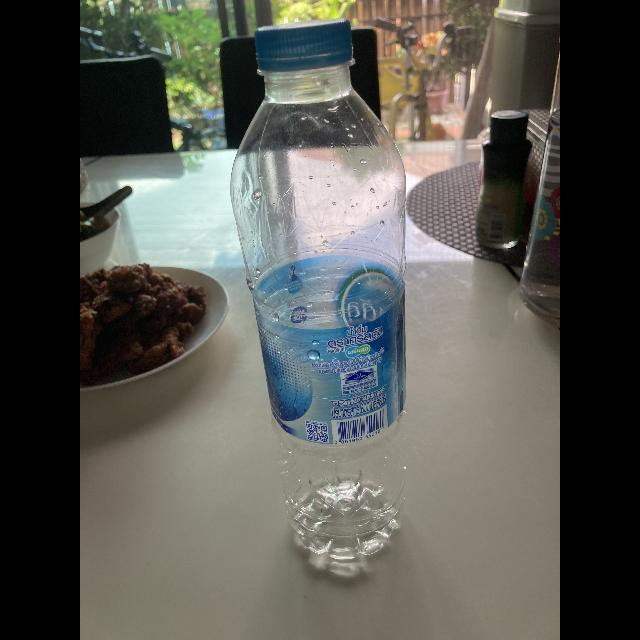plastic_bottle: (225, 17, 409, 581)
plastic_bottle_cap: (253, 21, 353, 71)
